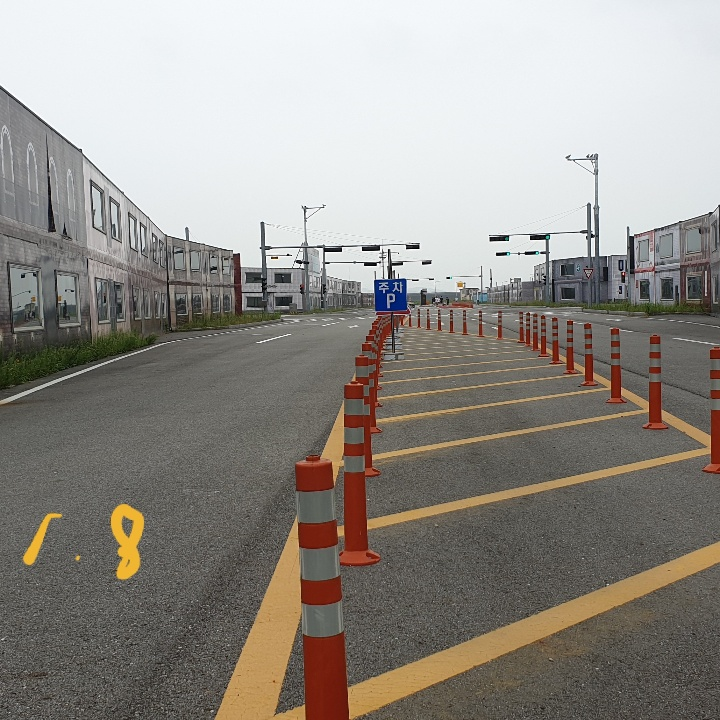parking: (381, 290, 399, 307)
